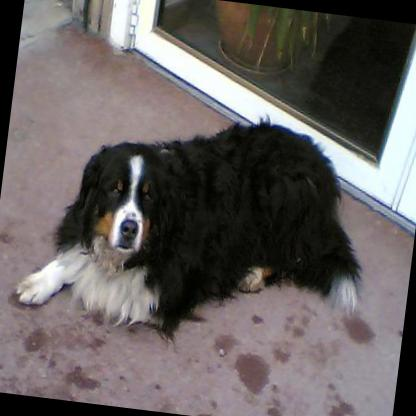Bernese_mountain_dog: (7, 81, 381, 362)
